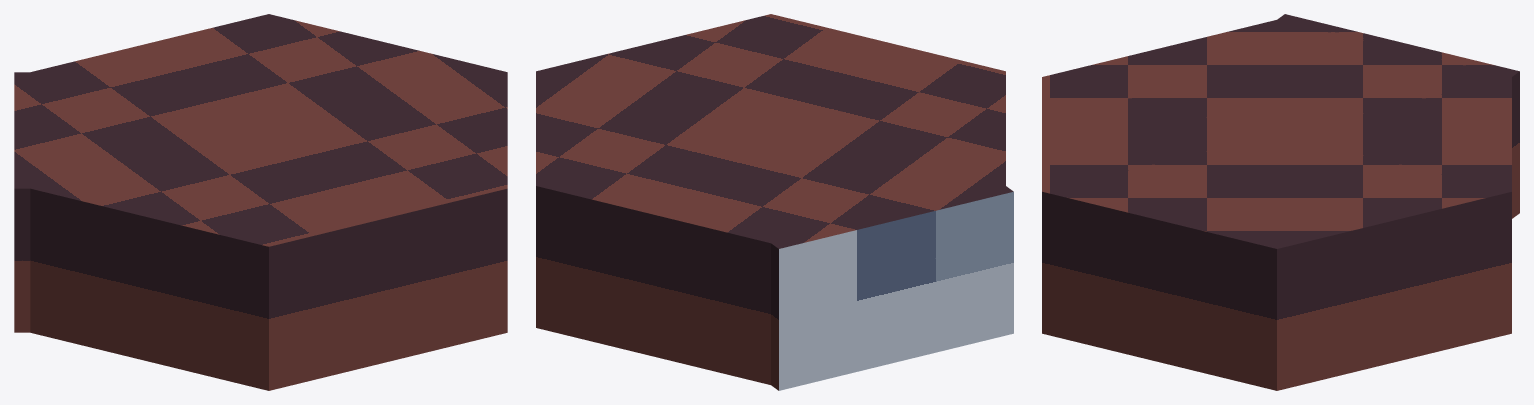
File: Belt.gltf
The picture shows the model from 3 angles, left to right: view 1: azimuth 30°, elevation 25°; view 2: azimuth 150°, elevation 25°; view 3: azimuth 270°, elevation 25°; orthographic projection.
Visible parts, largest first — view 1: cylinder; view 2: cylinder; view 3: cylinder.
Part boxes in pixels (x1,y1,x2,y2): cylinder: [14, 14, 507, 390]; cylinder: [536, 14, 1013, 390]; cylinder: [1042, 14, 1519, 390].
Bounding box in the file's own units: 0.4438 × 0.125 × 0.3812.
Materials: 1 (1 with a texture image).
